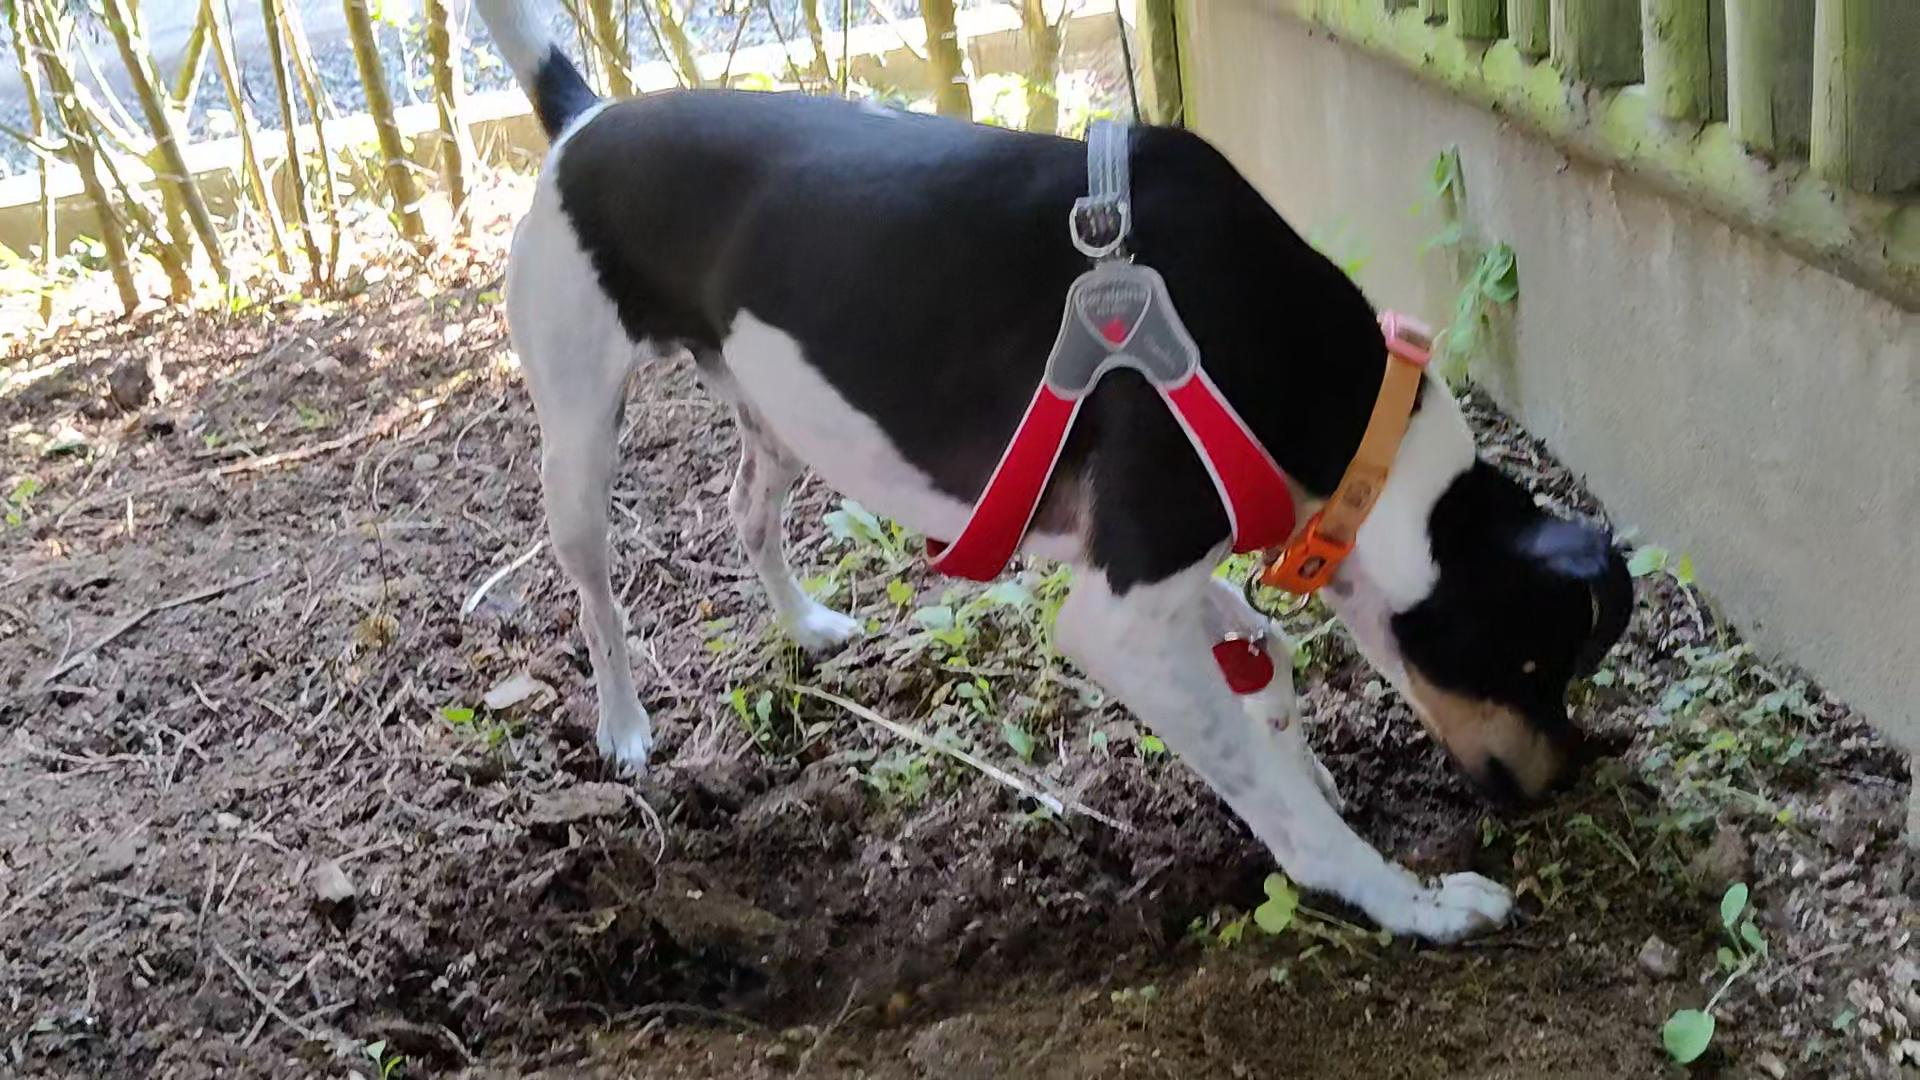Dog: (377, 0, 1663, 949)
